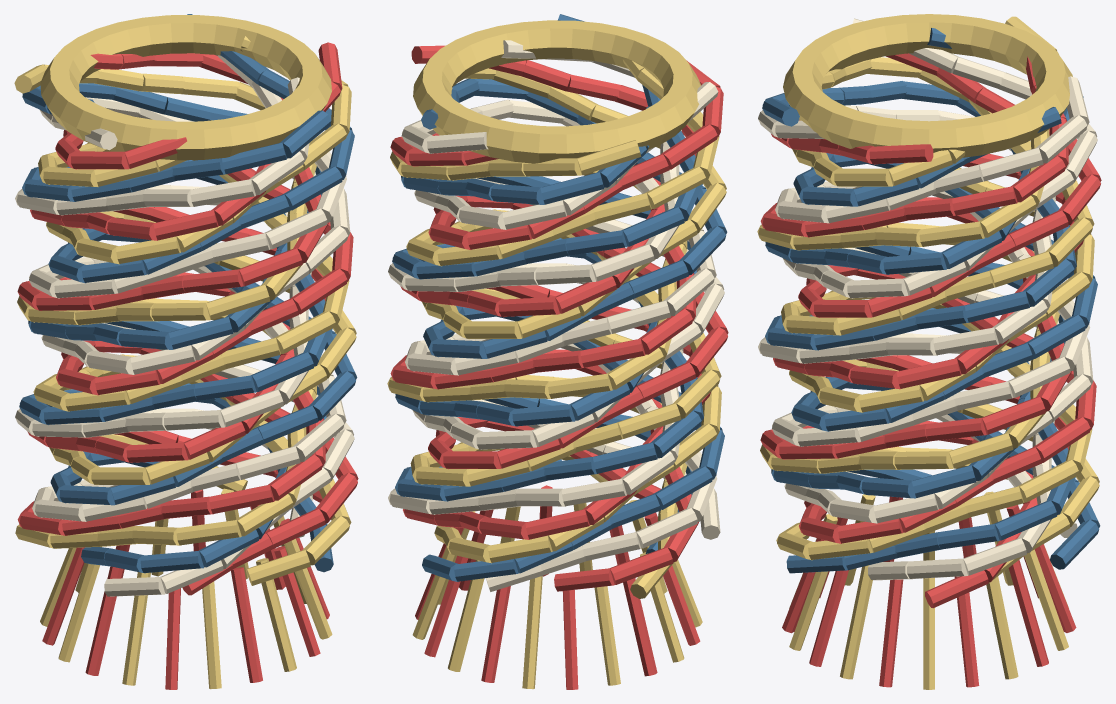
File: craft_kumihimo.glb
3 renders of one model, left to right at view 1: azimuth 30°, elevation 25°; view 2: azimuth 150°, elevation 25°; view 3: azimuth 270°, elevation 25°, orthographic.
Visible parts, largest first — view 1: Braided kumihimo tassel collar, Loose silk fringe tail.015, Loose silk fringe tail.014, Loose silk fringe tail.012, Loose silk fringe tail.016, Loose silk fringe tail.011, Loose silk fringe tail.010, Loose silk fringe tail.009, Loose silk fringe tail.013, Individual silk kumihimo braid 04_23, Individual silk kumihimo braid 03_25, Loose silk fringe tail.017 (+132 smaller); view 2: Braided kumihimo tassel collar, Loose silk fringe tail.006, Loose silk fringe tail.008, Loose silk fringe tail.005, Loose silk fringe tail.004, Loose silk fringe tail.007, Loose silk fringe tail.009, Individual silk kumihimo braid 03_03, Individual silk kumihimo braid 10_26, Individual silk kumihimo braid 04_01, Individual silk kumihimo braid 11_24, Individual silk kumihimo braid 05_32 (+130 smaller); view 3: Braided kumihimo tassel collar, Loose silk fringe tail.018, Loose silk fringe tail.019, Loose silk fringe tail.003, Loose silk fringe tail.002, Loose silk fringe tail.017, Loose silk fringe tail.004, Loose silk fringe tail.001, Individual silk kumihimo braid 04_12, Individual silk kumihimo braid 03_14, Loose silk fringe tail, Individual silk kumihimo braid 10_04 (+130 smaller).
Boxes of the visible parts, x1,y1,x2,y2 form: Braided kumihimo tassel collar: (40,15,331,160); Loose silk fringe tail.015: (231,567,262,682); Loose silk fringe tail.014: (202,581,221,689); Loose silk fringe tail.012: (122,572,150,685); Loose silk fringe tail.016: (256,558,296,671); Loose silk fringe tail.011: (85,566,123,675); Loose silk fringe tail.010: (58,563,99,662); Loose silk fringe tail.009: (42,547,84,645); Loose silk fringe tail.013: (165,588,180,689); Individual silk kumihimo braid 04_23: (239,248,302,286); Individual silk kumihimo braid 03_25: (264,208,327,249); Loose silk fringe tail.017: (274,546,320,656); Braided kumihimo tassel collar: (413,20,700,163); Loose silk fringe tail.006: (522,576,542,689); Loose silk fringe tail.008: (594,586,620,685); Loose silk fringe tail.005: (481,586,510,682); Loose silk fringe tail.004: (448,560,484,671); Loose silk fringe tail.007: (562,590,578,689); Loose silk fringe tail.009: (623,578,657,676); Individual silk kumihimo braid 03_03: (635,508,697,548); Individual silk kumihimo braid 10_26: (622,207,684,246); Individual silk kumihimo braid 04_01: (610,547,673,584); Individual silk kumihimo braid 11_24: (591,244,654,281); Individual silk kumihimo braid 05_32: (577,140,641,175); Braided kumihimo tassel collar: (783,14,1072,157); Loose silk fringe tail.018: (840,565,872,679); Loose silk fringe tail.019: (879,579,903,687); Loose silk fringe tail.003: (1008,560,1048,666); Loose silk fringe tail.002: (986,576,1018,679); Loose silk fringe tail.017: (809,570,848,666); Loose silk fringe tail.004: (1024,549,1068,650); Loose silk fringe tail.001: (954,576,979,687); Individual silk kumihimo braid 04_12: (981,396,1045,434); Individual silk kumihimo braid 03_14: (1007,356,1070,397); Loose silk fringe tail: (923,577,934,689); Individual silk kumihimo braid 10_04: (994,500,1056,540).
Bounding box in the file's own units: 1.09 × 1.95 × 1.09.
